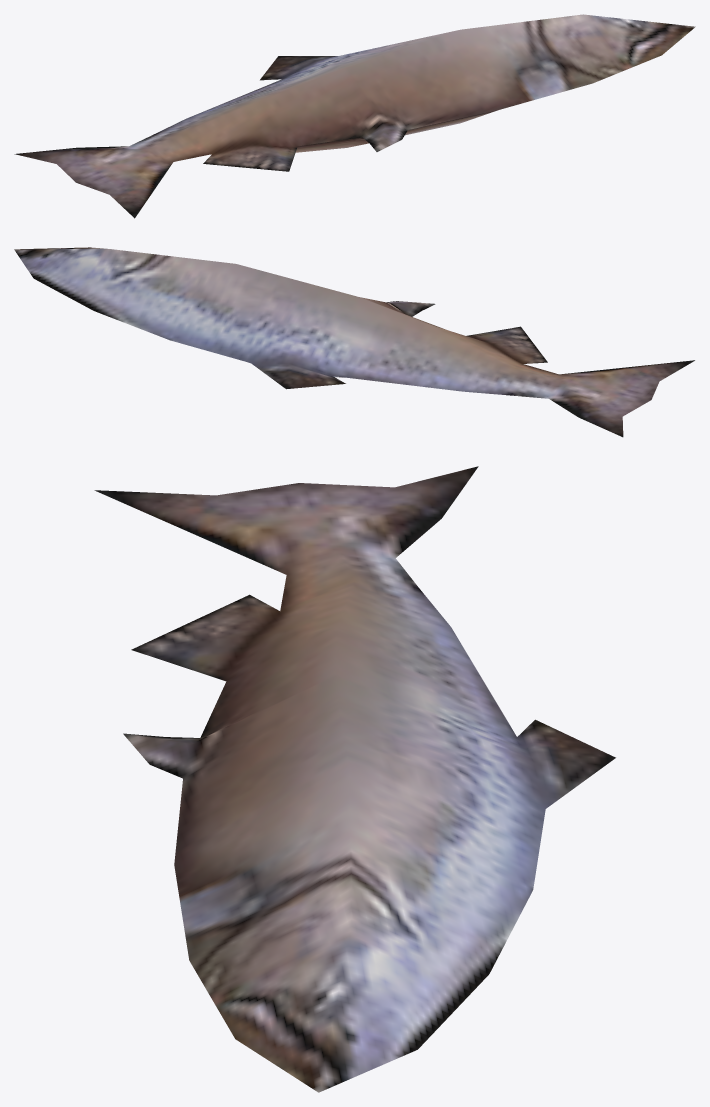
File: village_fish_05.fbx
The picture shows the model from 3 angles, top to bottom: view 1: azimuth 30°, elevation 25°; view 2: azimuth 150°, elevation 25°; view 3: azimuth 270°, elevation 25°; orthographic projection. The views are drawn at different scales.
Visible parts, largest first — view 1: village_fish_05; view 2: village_fish_05; view 3: village_fish_05.
Part boxes in pixels (x1,y1,x2,y2): village_fish_05: [14, 14, 695, 218]; village_fish_05: [14, 247, 694, 437]; village_fish_05: [94, 466, 615, 1092].
Size of the model in its own units: 80.28 by 11.19 by 28.29.
